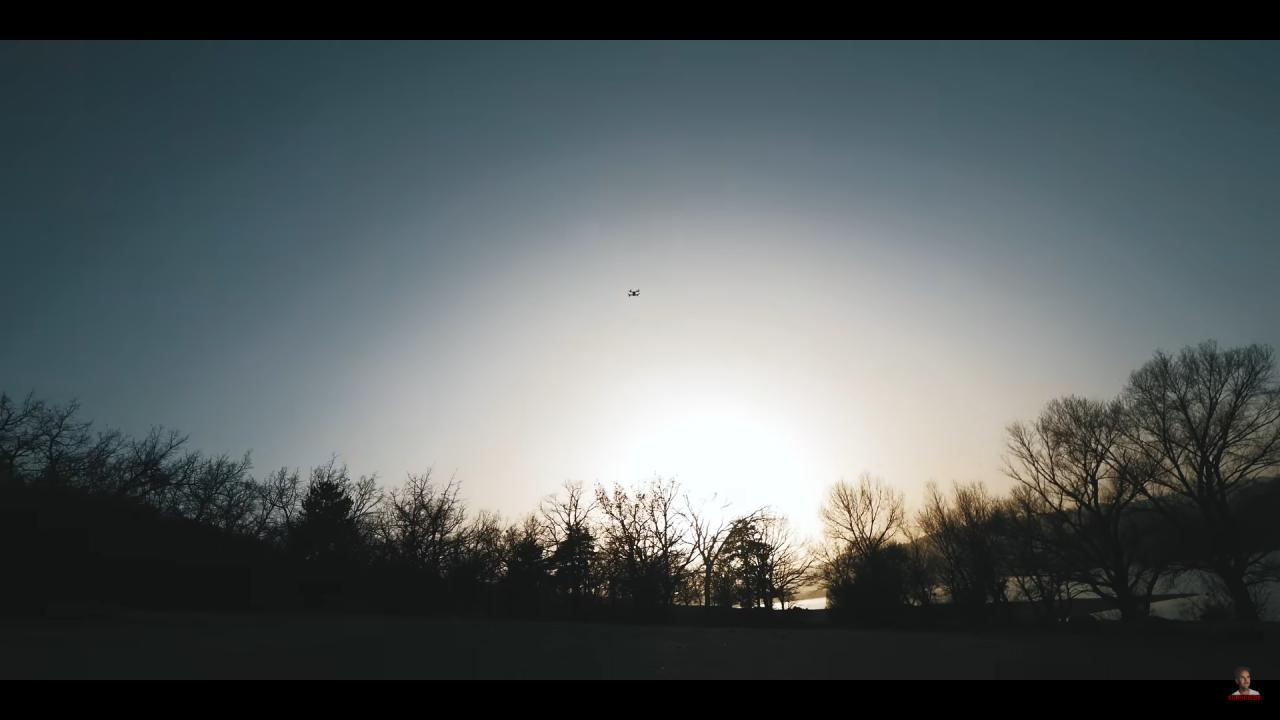Drone: (625, 284, 644, 300)
